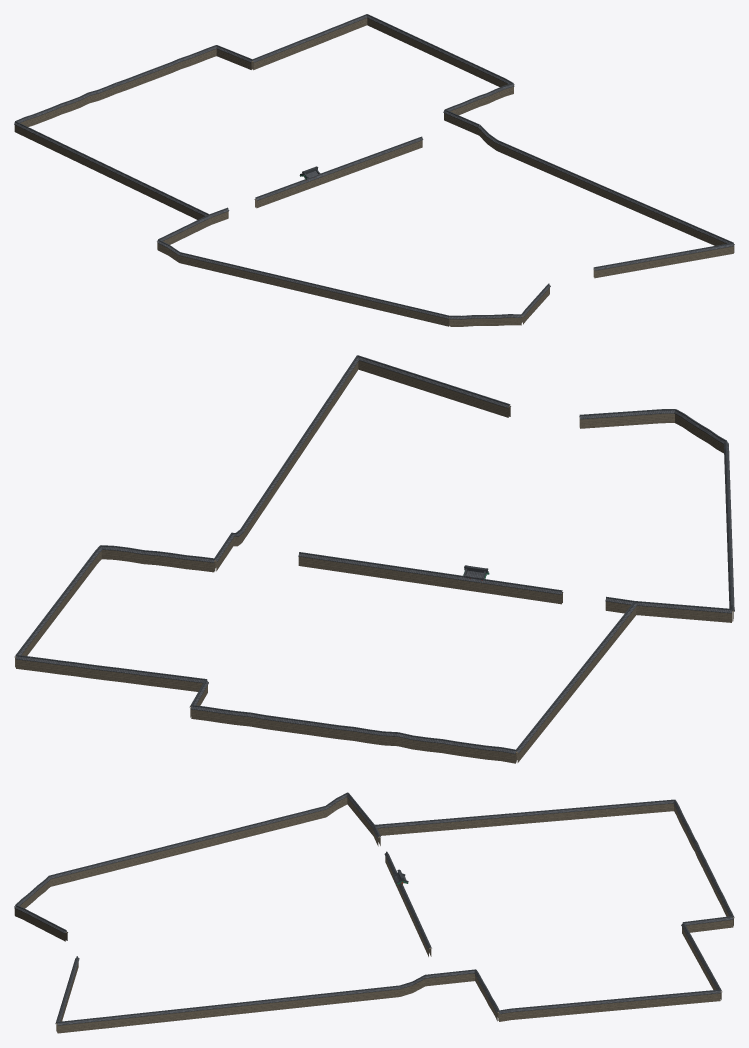
3 renders of one model, top to bottom at view 1: azimuth 30°, elevation 25°; view 2: azimuth 150°, elevation 25°; view 3: azimuth 270°, elevation 25°, orthographic. The views are drawn at different scales.
Parts seen in each view (by area): view 1: damjang; view 2: damjang; view 3: damjang.
Part boxes in pixels (box(x1,y1,x2,y2)): damjang: box(14, 14, 734, 326); damjang: box(14, 355, 734, 763); damjang: box(14, 792, 734, 1033).
Size of the model in its own units: 121 by 7.14 by 164.
8 materials, 7 textured.
